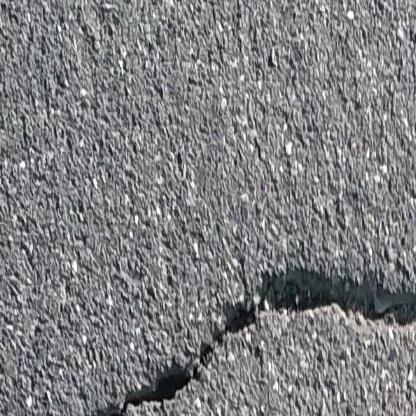Cracks: (81, 264, 416, 416)
